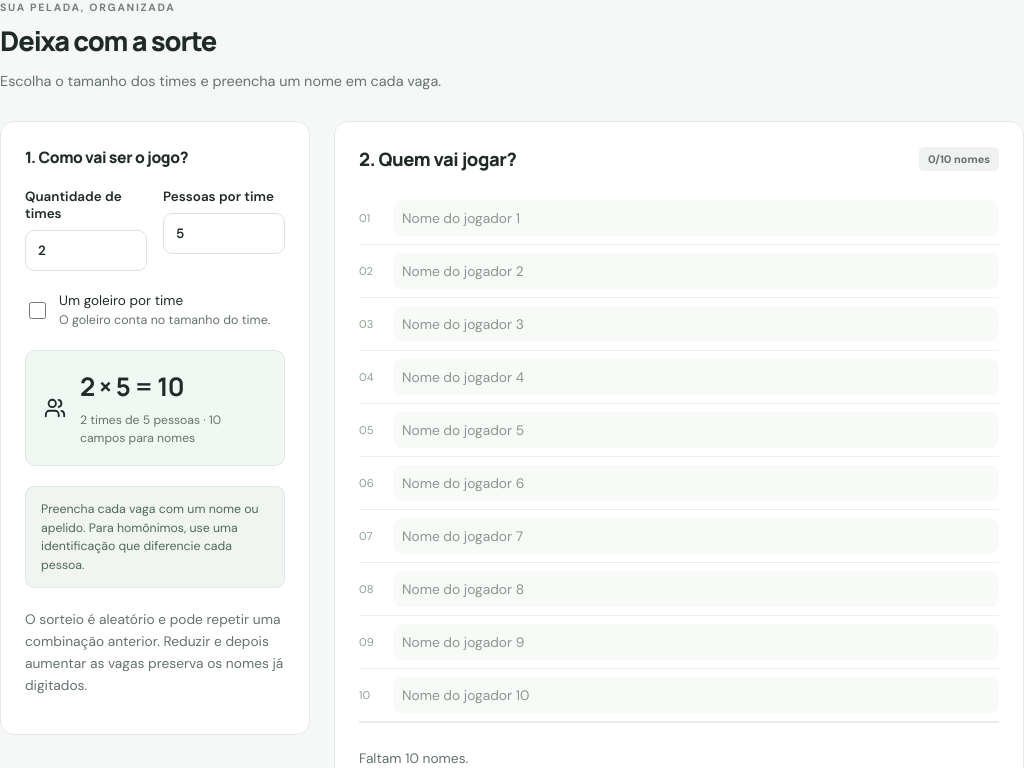
Test: alterar vagas preserva nomes e impede sorteio com campos vazios ou configuração excessiva
Expected: the field labelled "Nome do jogador 1" is shown, x1=393 y1=200 x2=999 y2=236
Step 1. Type "Último jogador" into the field labelled "Nome do jogador 10" → (696, 695), box x1=393 y1=677 x2=999 y2=713
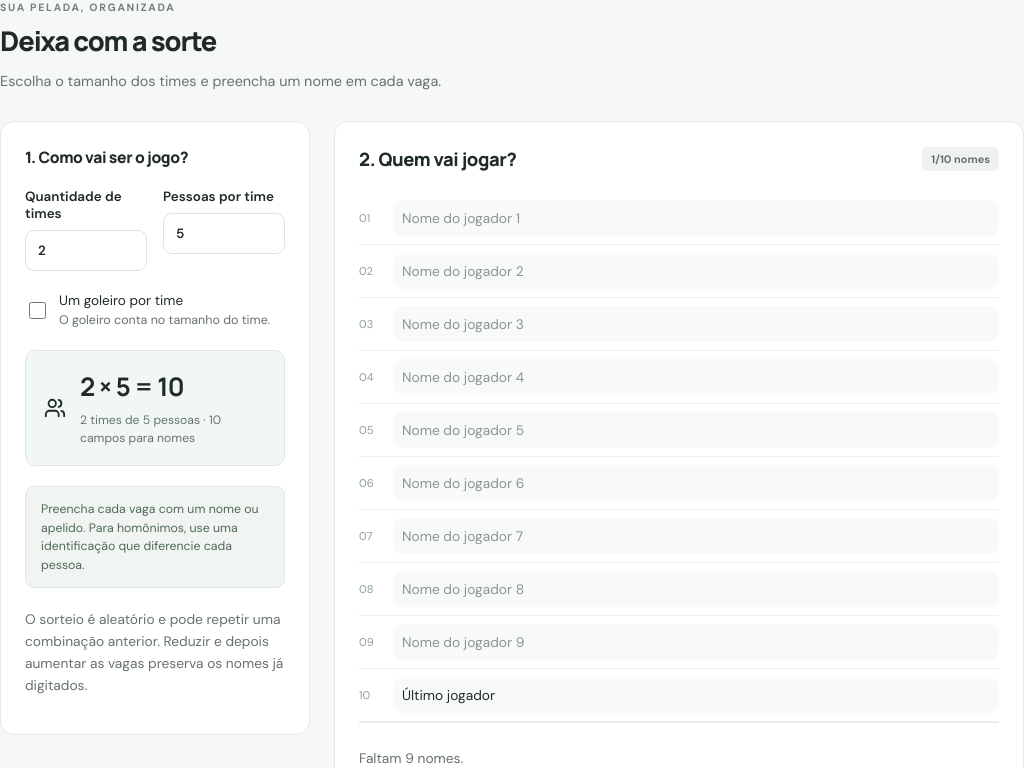
Step 2. Replace the text in the number field labelled "Pessoas por time" with "2" → (224, 233), box x1=163 y1=213 x2=285 y2=254
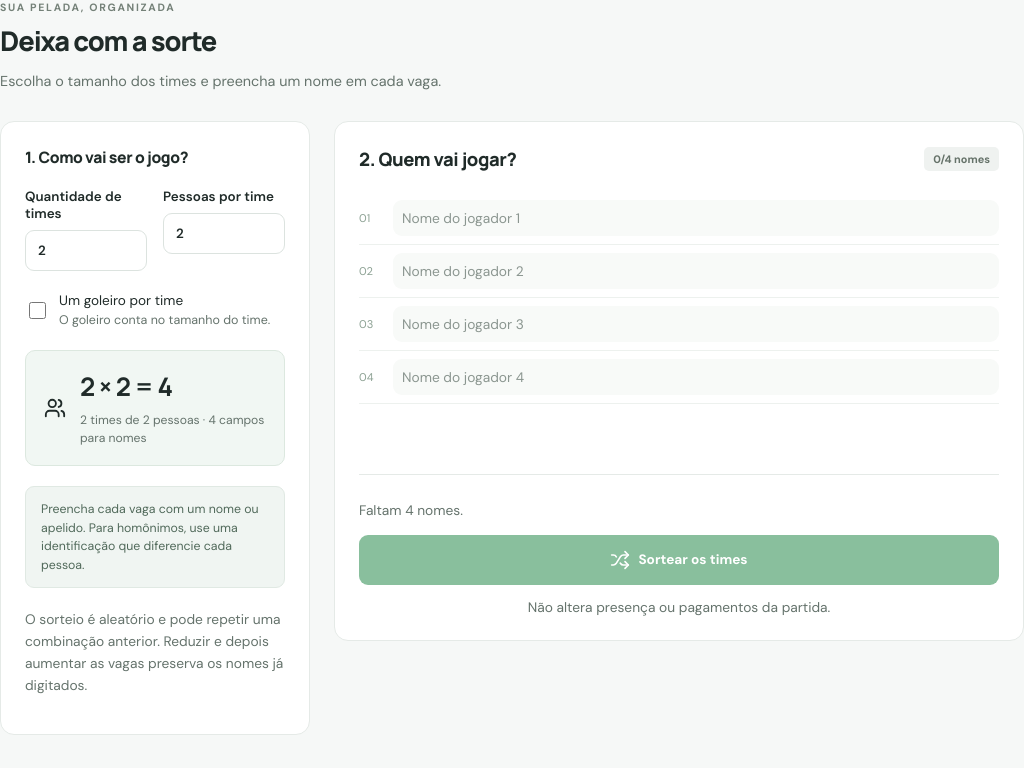
Expected: the field labelled "Nome do jogador 10" is not shown
Step 3. Replace the text in the number field labelled "Pessoas por time" with "5" → (224, 233), box x1=163 y1=213 x2=285 y2=254
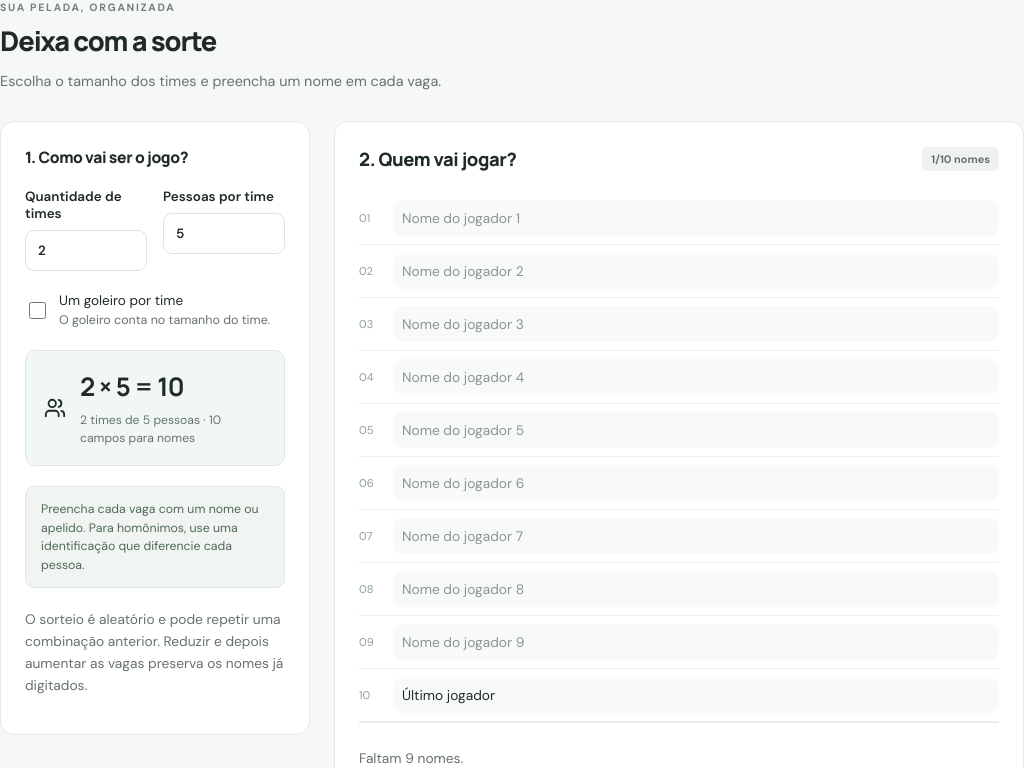
Now the field named "Nome do jogador 10" holds "Último jogador", box x1=393 y1=677 x2=999 y2=713
Step 4. Replace the text in the number field labelled "Quantidade de times" with "50" → (86, 250), box x1=25 y1=230 x2=147 y2=271
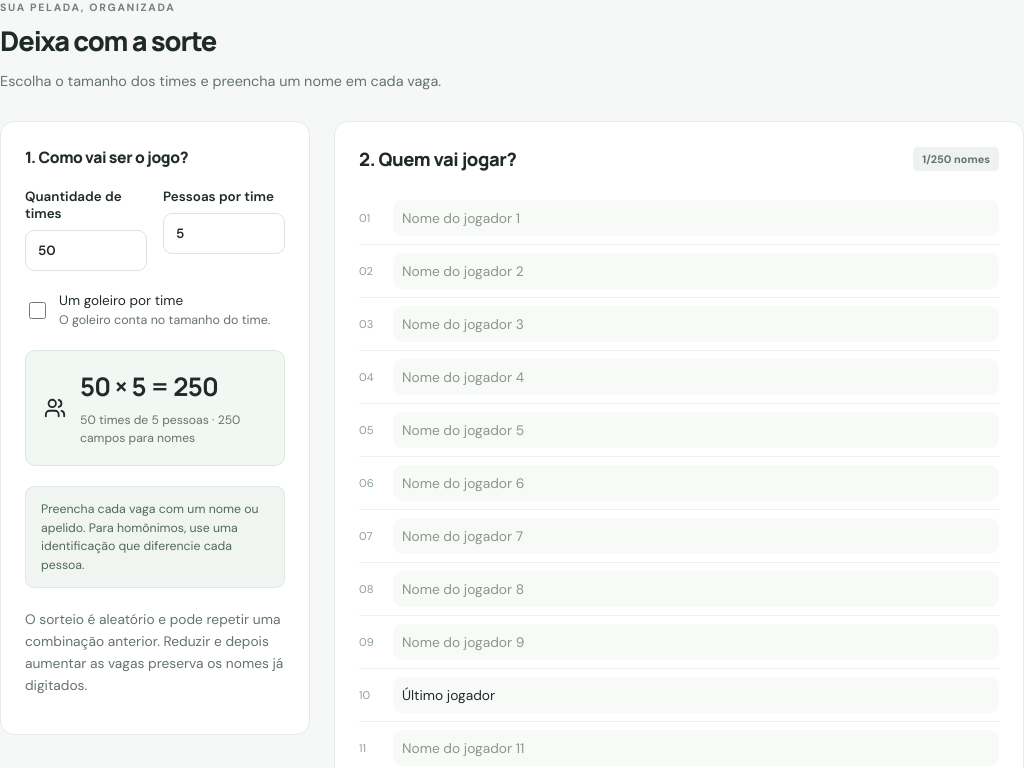
Step 5. Replace the text in the number field labelled "Pessoas por time" with "50" → (224, 233), box x1=163 y1=213 x2=285 y2=254
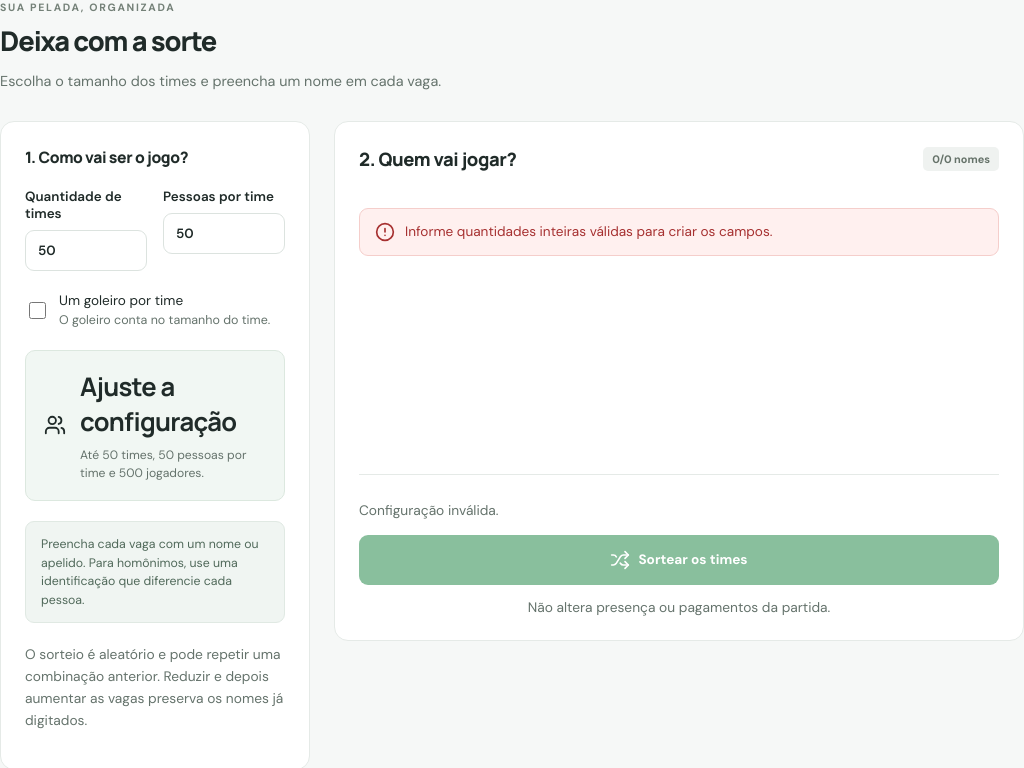
Now the message "Informe quantidades inteiras válidas para criar os campos." is shown, box x1=359 y1=208 x2=999 y2=256
